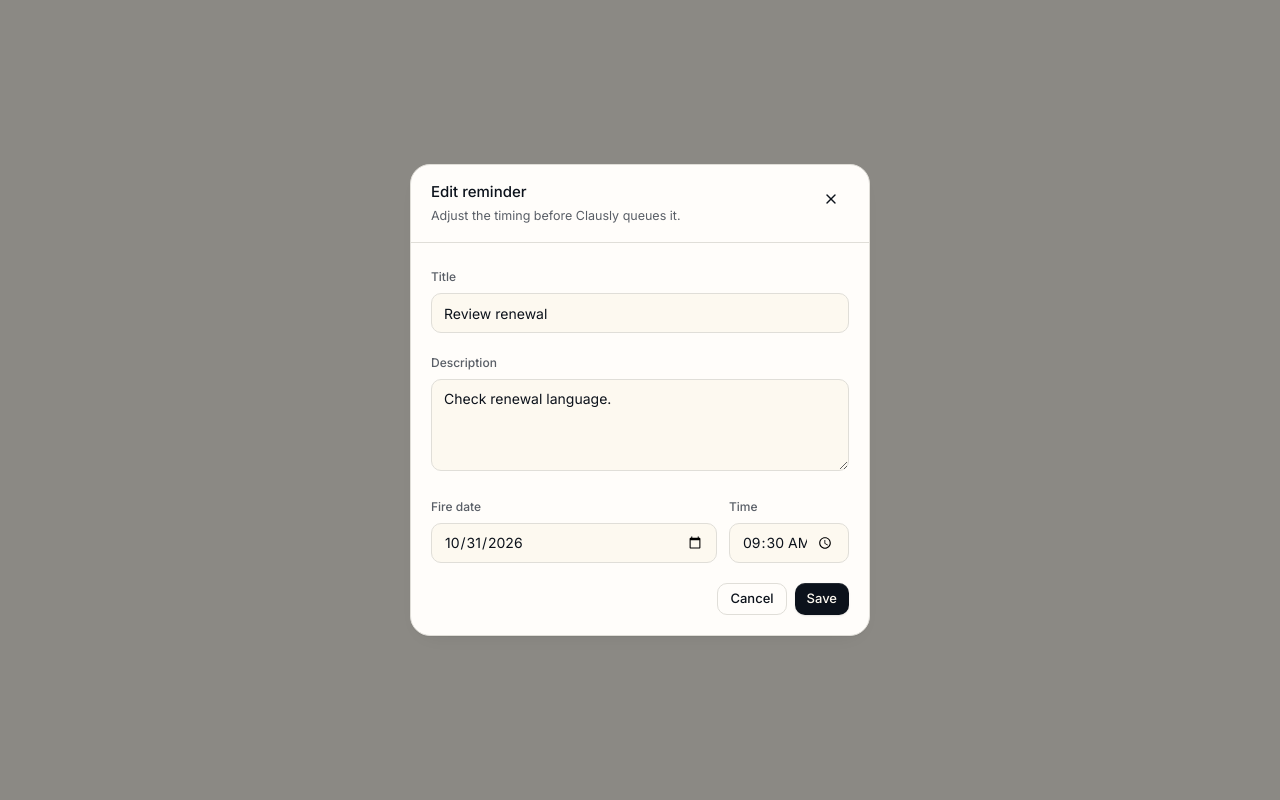
Test: ReminderEditModal › blocks saving an approved reminder with a date moved into the past
In the date field labelled "Fire date": (574, 543) x1=431 y1=523 x2=717 y2=563, type "2026-01-05"
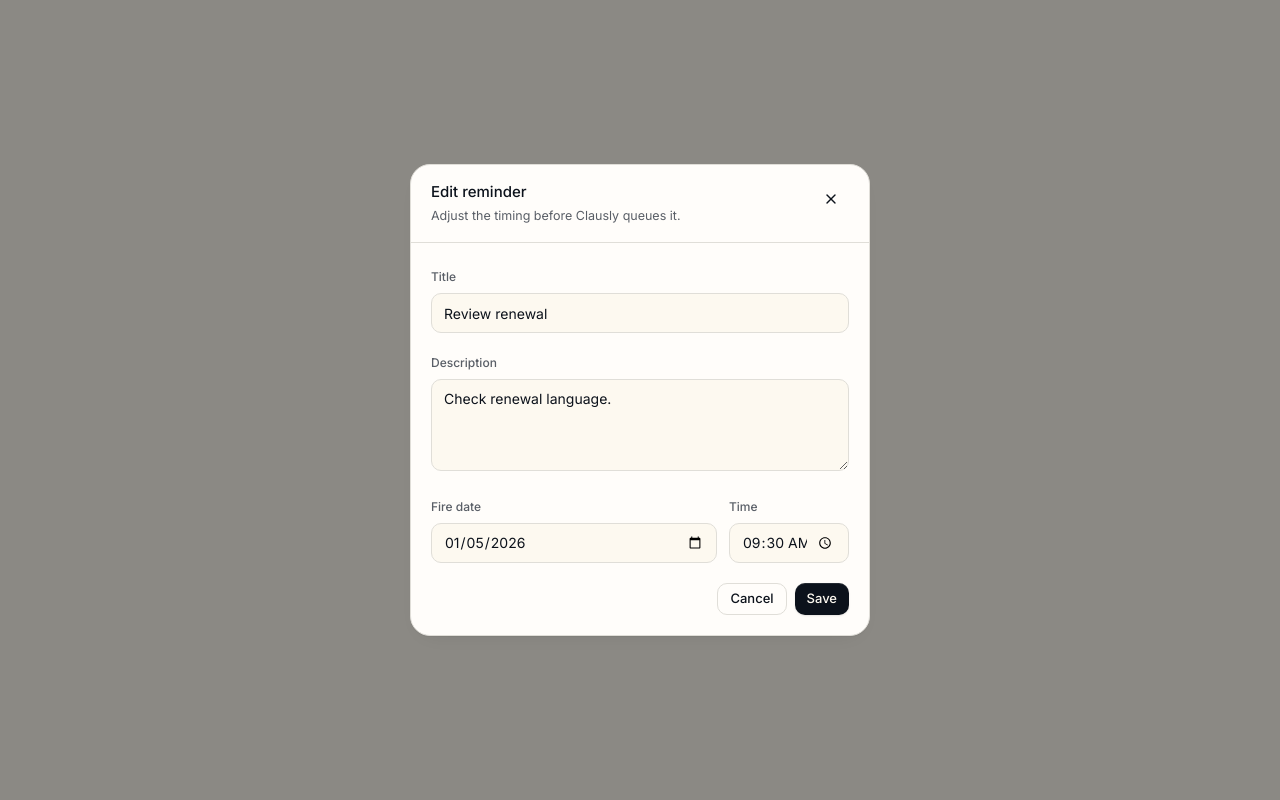
Click the button "Save": (822, 599) x1=794 y1=583 x2=849 y2=615
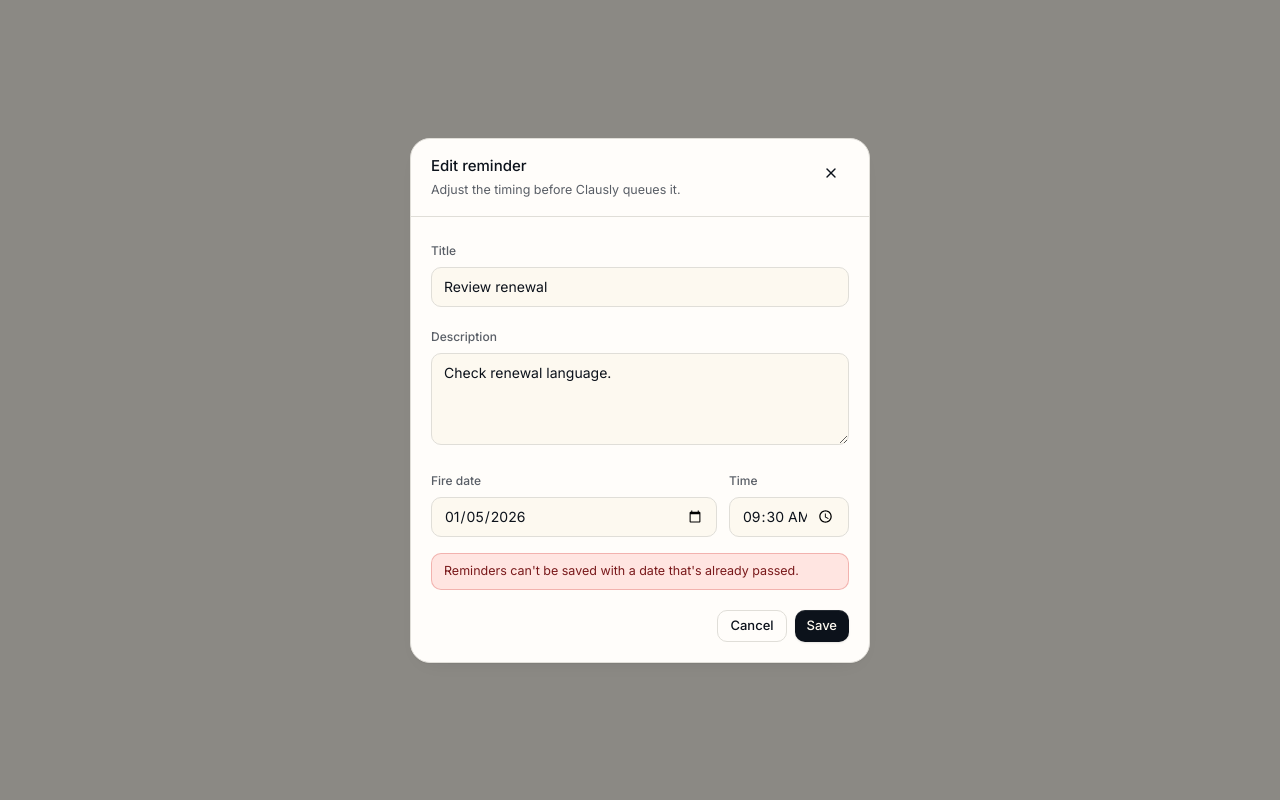
Result: the text "Reminders can't be saved with a date that's already passed." is shown at x1=431 y1=553 x2=849 y2=590
